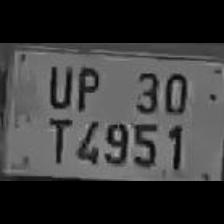0: (158, 66, 190, 116)
1: (158, 119, 188, 172)
3: (130, 66, 160, 116)
4: (70, 116, 100, 164)
5: (129, 118, 159, 168)
9: (100, 117, 127, 165)
P: (71, 62, 101, 113)
T: (42, 113, 72, 164)
U: (42, 60, 74, 110)
